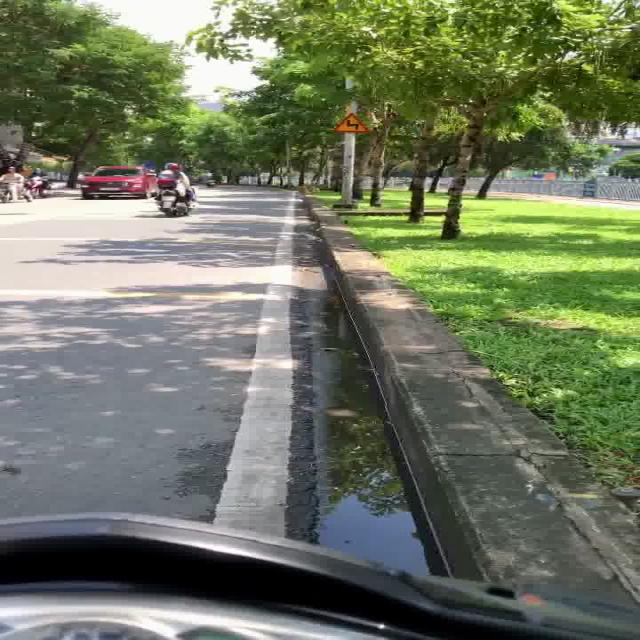Bien bao nhieu cho ngoat nguy hiem lien tiep: (328, 108, 372, 136)
